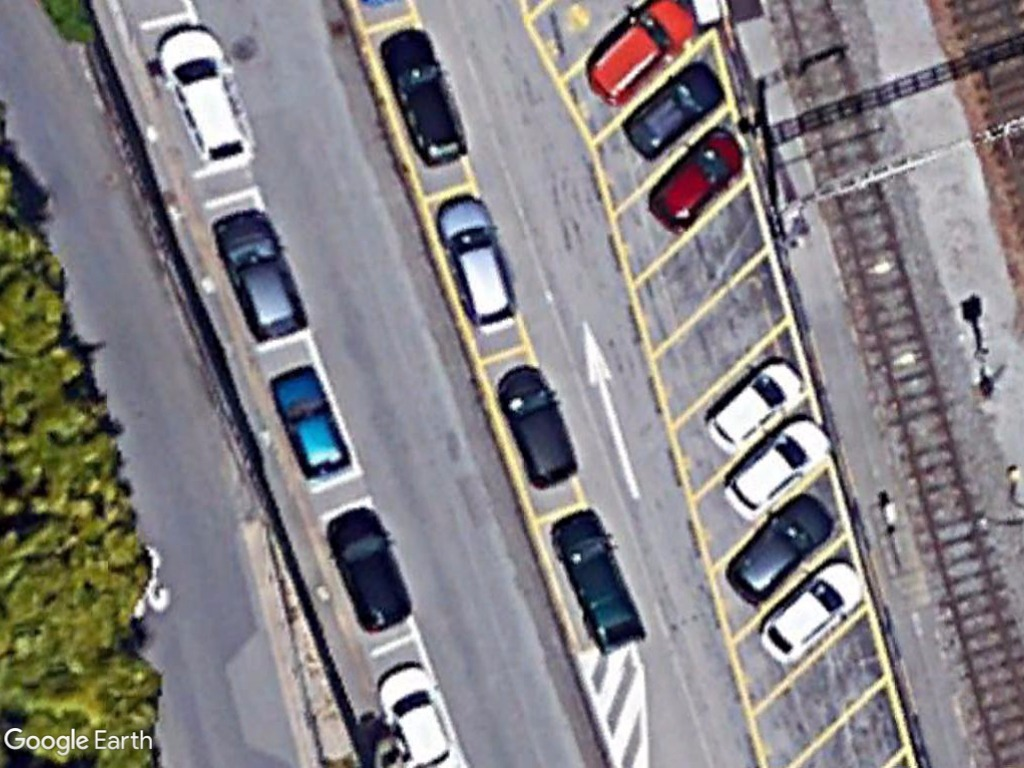car: (151, 21, 253, 176), (717, 483, 837, 610), (373, 29, 473, 169), (755, 552, 873, 668), (434, 193, 521, 334), (212, 214, 308, 340), (721, 415, 833, 523), (591, 1, 702, 104), (621, 55, 729, 160), (492, 364, 582, 488), (650, 123, 747, 234), (326, 510, 414, 630), (703, 356, 805, 455), (272, 368, 352, 479)
